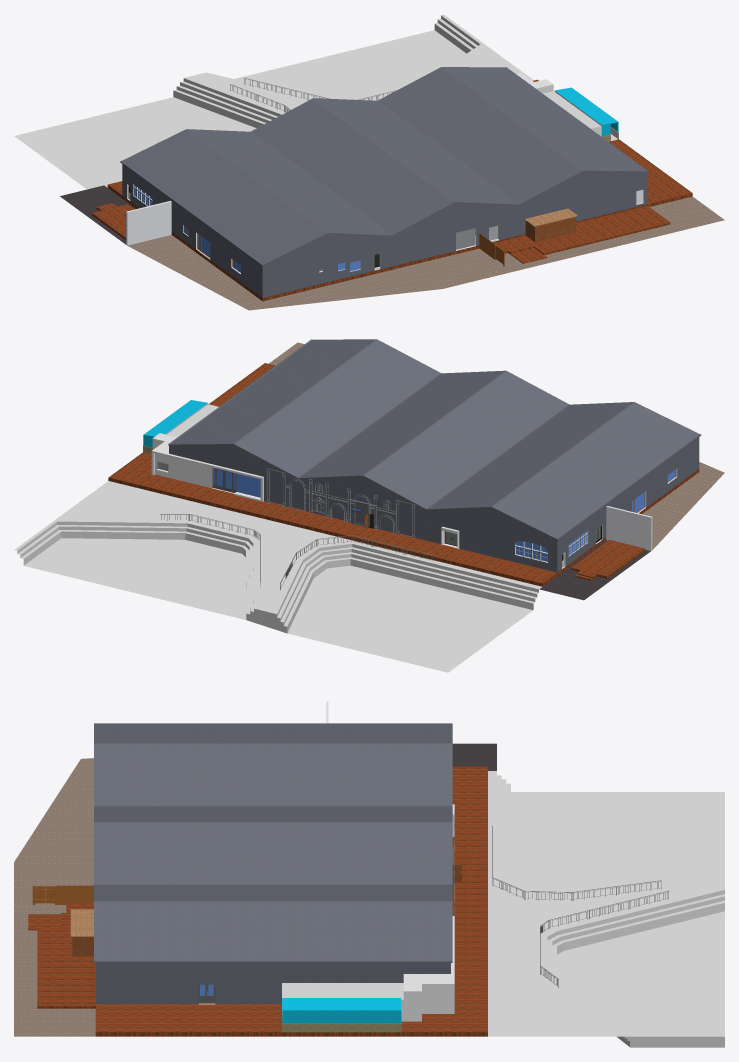
The model's file is 231222 3차송신(파이팩토리).glb.
3 renders of one model, top to bottom at view 1: azimuth 30°, elevation 25°; view 2: azimuth 150°, elevation 25°; view 3: azimuth 270°, elevation 25°, orthographic. The views are drawn at different scales.
Parts seen in each view (by area): view 1: _G-Object.167 (Loose Mesh), _G-Object.239 (Loose Mesh), _G-Object (Loose Mesh), _G-Object.254 (Loose Mesh), _G-Object.256 (Loose Mesh), G-Object.153, G-Object.259, G-Object.255; view 2: _G-Object.239 (Loose Mesh), _G-Object.167 (Loose Mesh), _G-Object (Loose Mesh), _G-Object.254 (Loose Mesh), G-Object.255, G-Object.151, G-Object.153, G-Object.150, _G-Object.154 (Loose Mesh); view 3: _G-Object.167 (Loose Mesh), _G-Object.239 (Loose Mesh), _G-Object.254 (Loose Mesh), _G-Object (Loose Mesh), _G-Object.256 (Loose Mesh), G-Object.153, _G-Object.152 (Loose Mesh), _G-Object.154 (Loose Mesh), G-Object.259.
Boxes of the visible parts, left/top/right/bottom form: _G-Object.167 (Loose Mesh): left=120, top=67, right=648, bottom=266; _G-Object.239 (Loose Mesh): left=14, top=14, right=692, bottom=301; _G-Object (Loose Mesh): left=122, top=164, right=647, bottom=297; _G-Object.254 (Loose Mesh): left=60, top=185, right=724, bottom=310; _G-Object.256 (Loose Mesh): left=479, top=205, right=670, bottom=266; G-Object.153: left=544, top=87, right=618, bottom=128; G-Object.259: left=524, top=208, right=577, bottom=241; G-Object.255: left=91, top=203, right=134, bottom=239; _G-Object.239 (Loose Mesh): left=14, top=363, right=699, bottom=672; _G-Object.167 (Loose Mesh): left=168, top=339, right=701, bottom=540; _G-Object (Loose Mesh): left=169, top=437, right=699, bottom=572; _G-Object.254 (Loose Mesh): left=269, top=342, right=724, bottom=600; G-Object.255: left=571, top=540, right=645, bottom=580; G-Object.151: left=266, top=468, right=415, bottom=538; G-Object.153: left=143, top=400, right=217, bottom=437; G-Object.150: left=151, top=450, right=263, bottom=501; _G-Object.154 (Loose Mesh): left=152, top=433, right=176, bottom=477; _G-Object.167 (Loose Mesh): left=94, top=723, right=452, bottom=962; _G-Object.239 (Loose Mesh): left=95, top=766, right=724, bottom=1047; _G-Object.254 (Loose Mesh): left=14, top=701, right=496, bottom=1036; _G-Object (Loose Mesh): left=95, top=848, right=453, bottom=1004; _G-Object.256 (Loose Mesh): left=28, top=885, right=95, bottom=1008; G-Object.153: left=282, top=983, right=403, bottom=1010; _G-Object.152 (Loose Mesh): left=282, top=983, right=403, bottom=1032; _G-Object.154 (Loose Mesh): left=403, top=974, right=450, bottom=1021; G-Object.259: left=70, top=909, right=93, bottom=956.
Size of the model in its own units: 74.65 by 10.48 by 76.55.
Materials: 57 (30 with a texture image).
